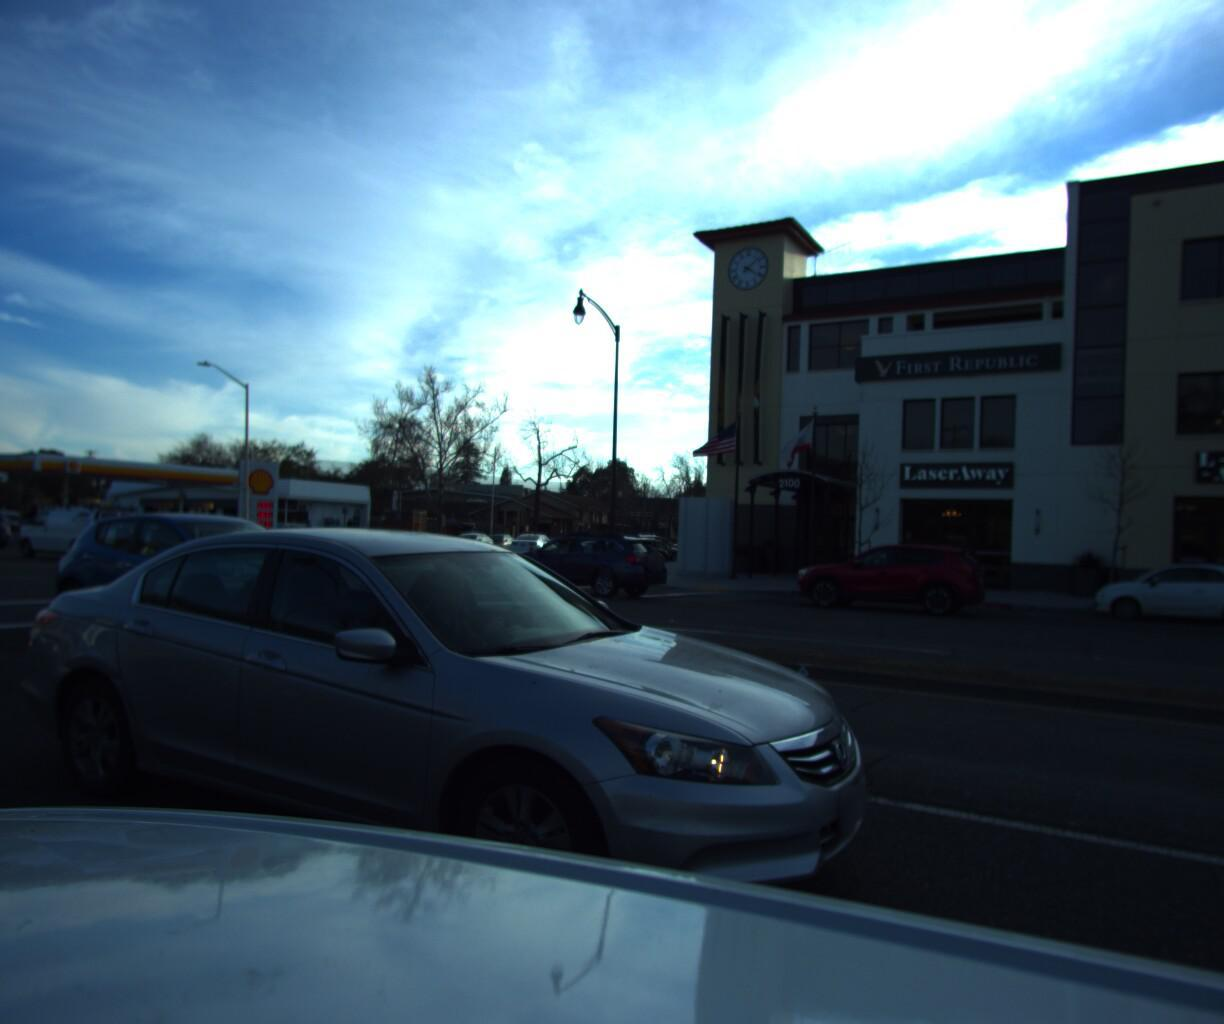car: (46, 506, 383, 659), (786, 536, 989, 617), (481, 522, 672, 603), (1081, 550, 1224, 626), (7, 495, 141, 559), (338, 521, 435, 561), (606, 528, 683, 555), (506, 522, 562, 557), (353, 516, 430, 541), (437, 524, 497, 553), (620, 527, 691, 551), (423, 514, 482, 542), (466, 525, 521, 551), (183, 510, 244, 533)
